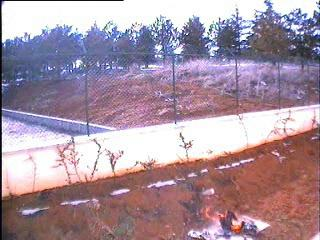fire: (197, 202, 251, 234)
